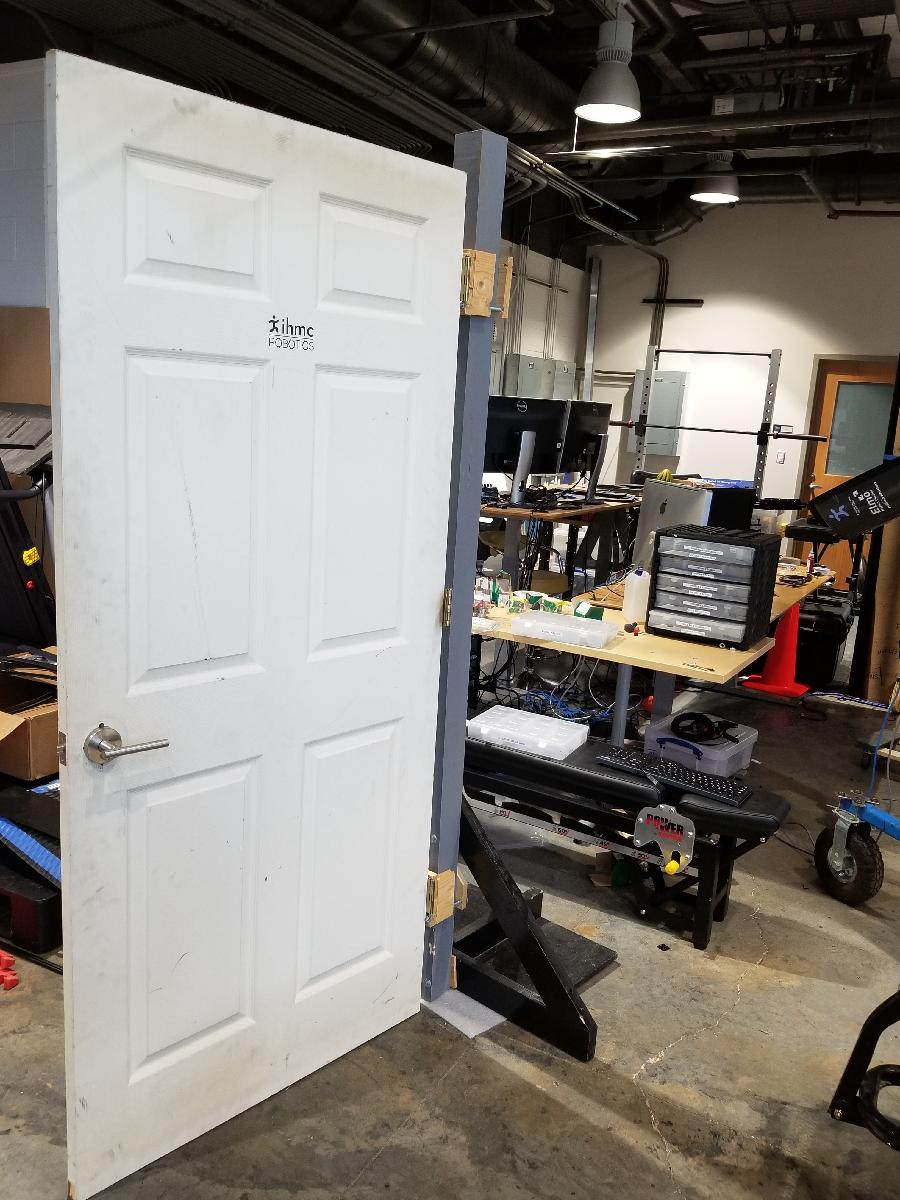door: (40, 47, 473, 1200)
doorHandle: (77, 715, 172, 779)
